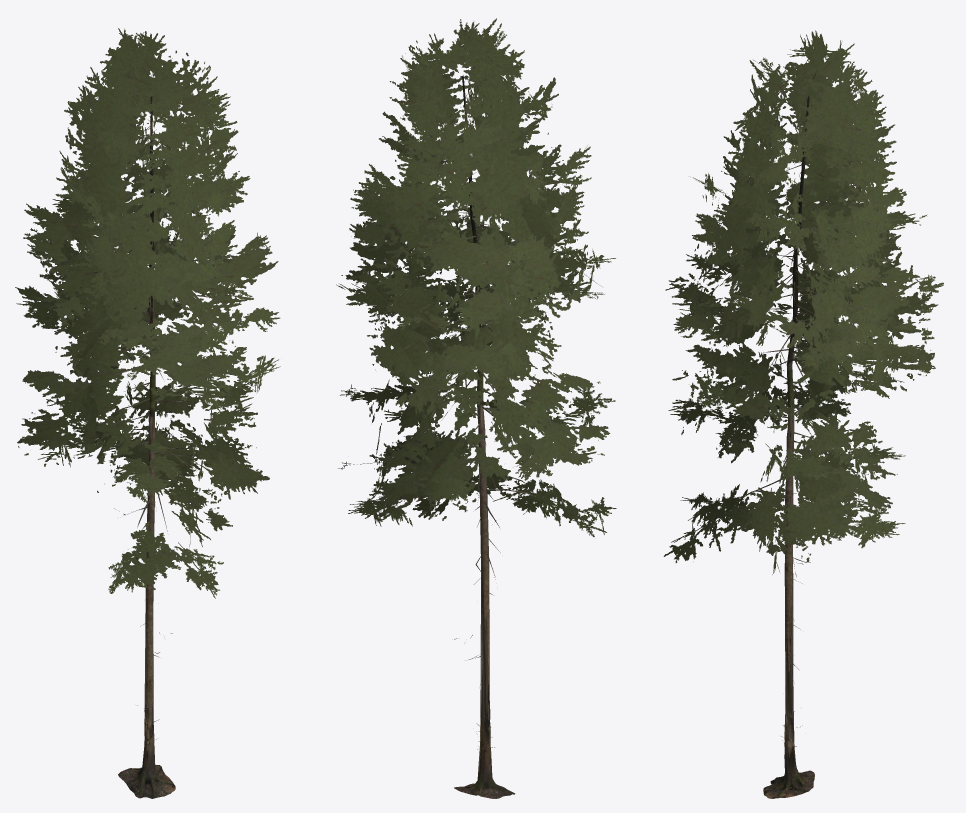
Rendered from fir_a.glb.
3 renders of one model, left to right at view 1: azimuth 30°, elevation 25°; view 2: azimuth 150°, elevation 25°; view 3: azimuth 270°, elevation 25°, orthographic. The views are drawn at different scales.
Parts seen in each view (by area): view 1: foliage, fir_tree_01_a_LOD0 (×2); view 2: foliage, fir_tree_01_a_LOD0 (×2); view 3: foliage, fir_tree_01_a_LOD0 (×2).
Part boxes in pixels (left/top/right/bottom): foliage: left=15, top=28, right=280, bottom=598; fir_tree_01_a_LOD0 (×2): left=109, top=74, right=202, bottom=798; foliage: left=336, top=18, right=616, bottom=536; fir_tree_01_a_LOD0 (×2): left=433, top=67, right=535, bottom=798; foliage: left=663, top=30, right=943, bottom=574; fir_tree_01_a_LOD0 (×2): left=729, top=70, right=831, bottom=798.
Bounding box in the file's own units: 6.67 × 18.92 × 6.69.
3 materials, 3 textured.
